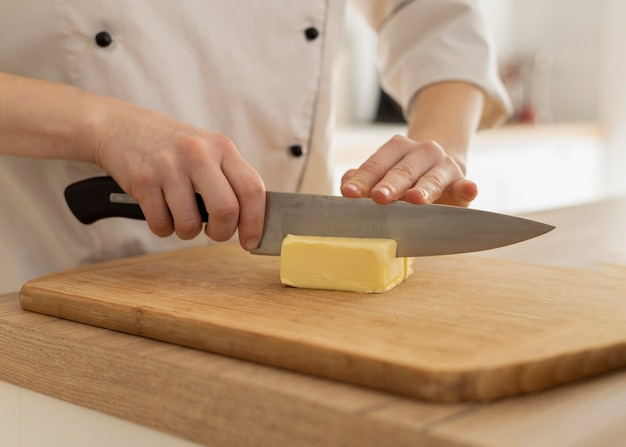knife: (60, 172, 556, 259)
